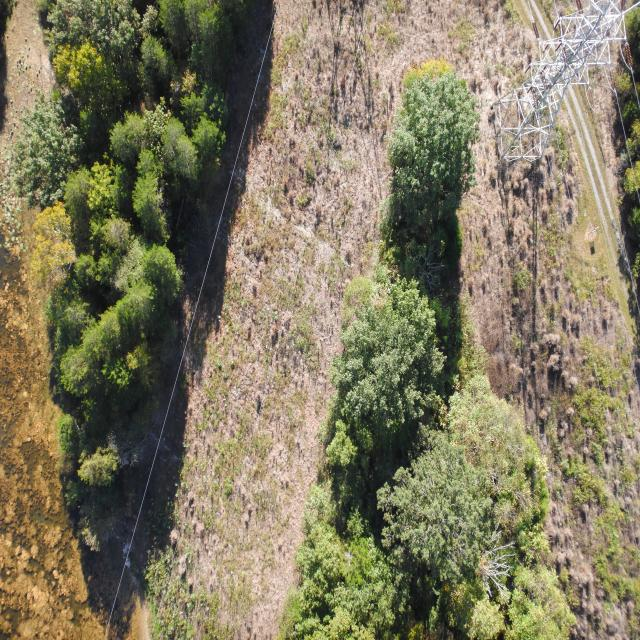Area of Interest: (308, 74, 556, 622), (53, 5, 233, 516)
